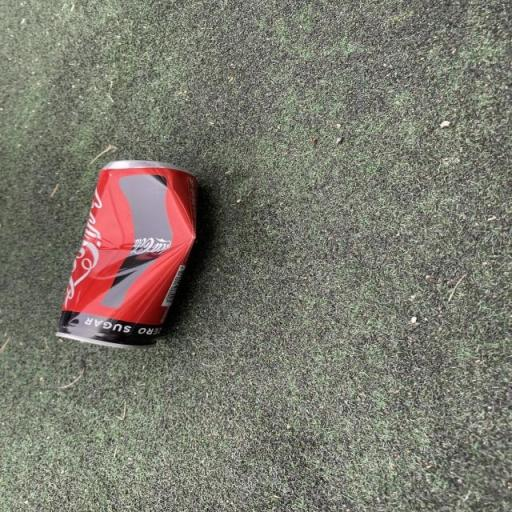metal: (36, 152, 211, 368)
